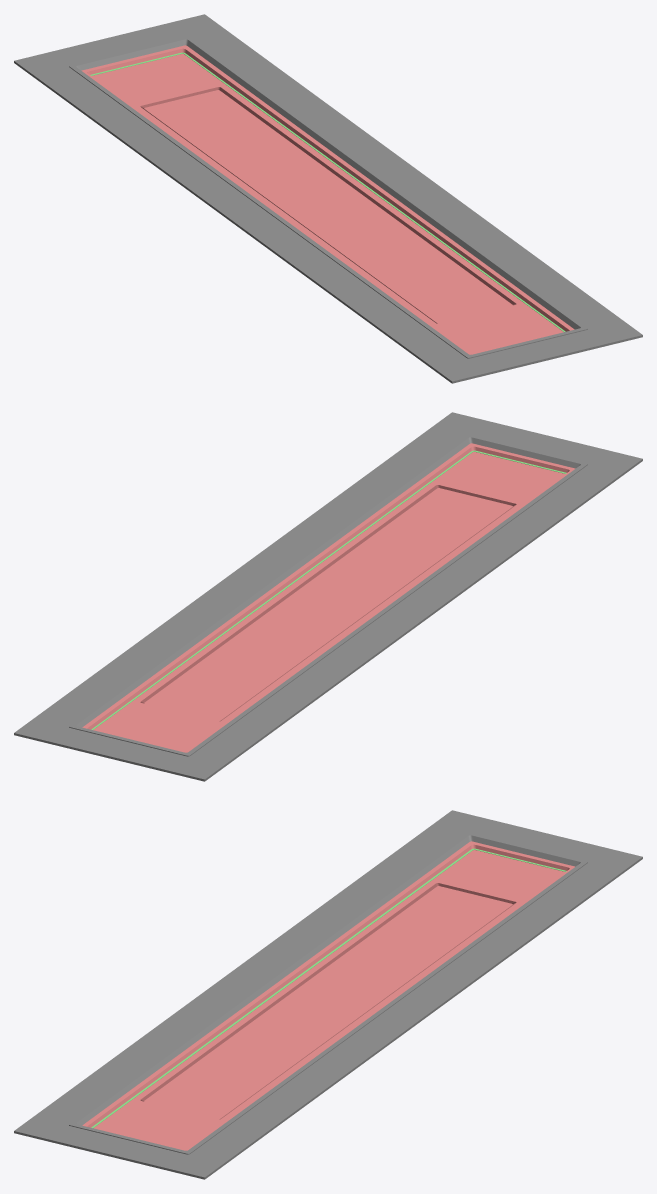
Rendered from S_Envi_Reward_Building_022.gltf.
The picture shows the model from 3 angles, top to bottom: view 1: azimuth 30°, elevation 25°; view 2: azimuth 150°, elevation 25°; view 3: azimuth 330°, elevation 25°; orthographic projection.
Parts seen in each view (by area): view 1: S_Envi_Reward_Building_022; view 2: S_Envi_Reward_Building_022; view 3: S_Envi_Reward_Building_022.
Boxes of the visible parts, <box> form: S_Envi_Reward_Building_022: <box>14,14,642,383</box>; S_Envi_Reward_Building_022: <box>14,412,642,781</box>; S_Envi_Reward_Building_022: <box>14,810,642,1179</box>.
Bounding box in the file's own units: 5.23 × 0.32 × 20.8.
